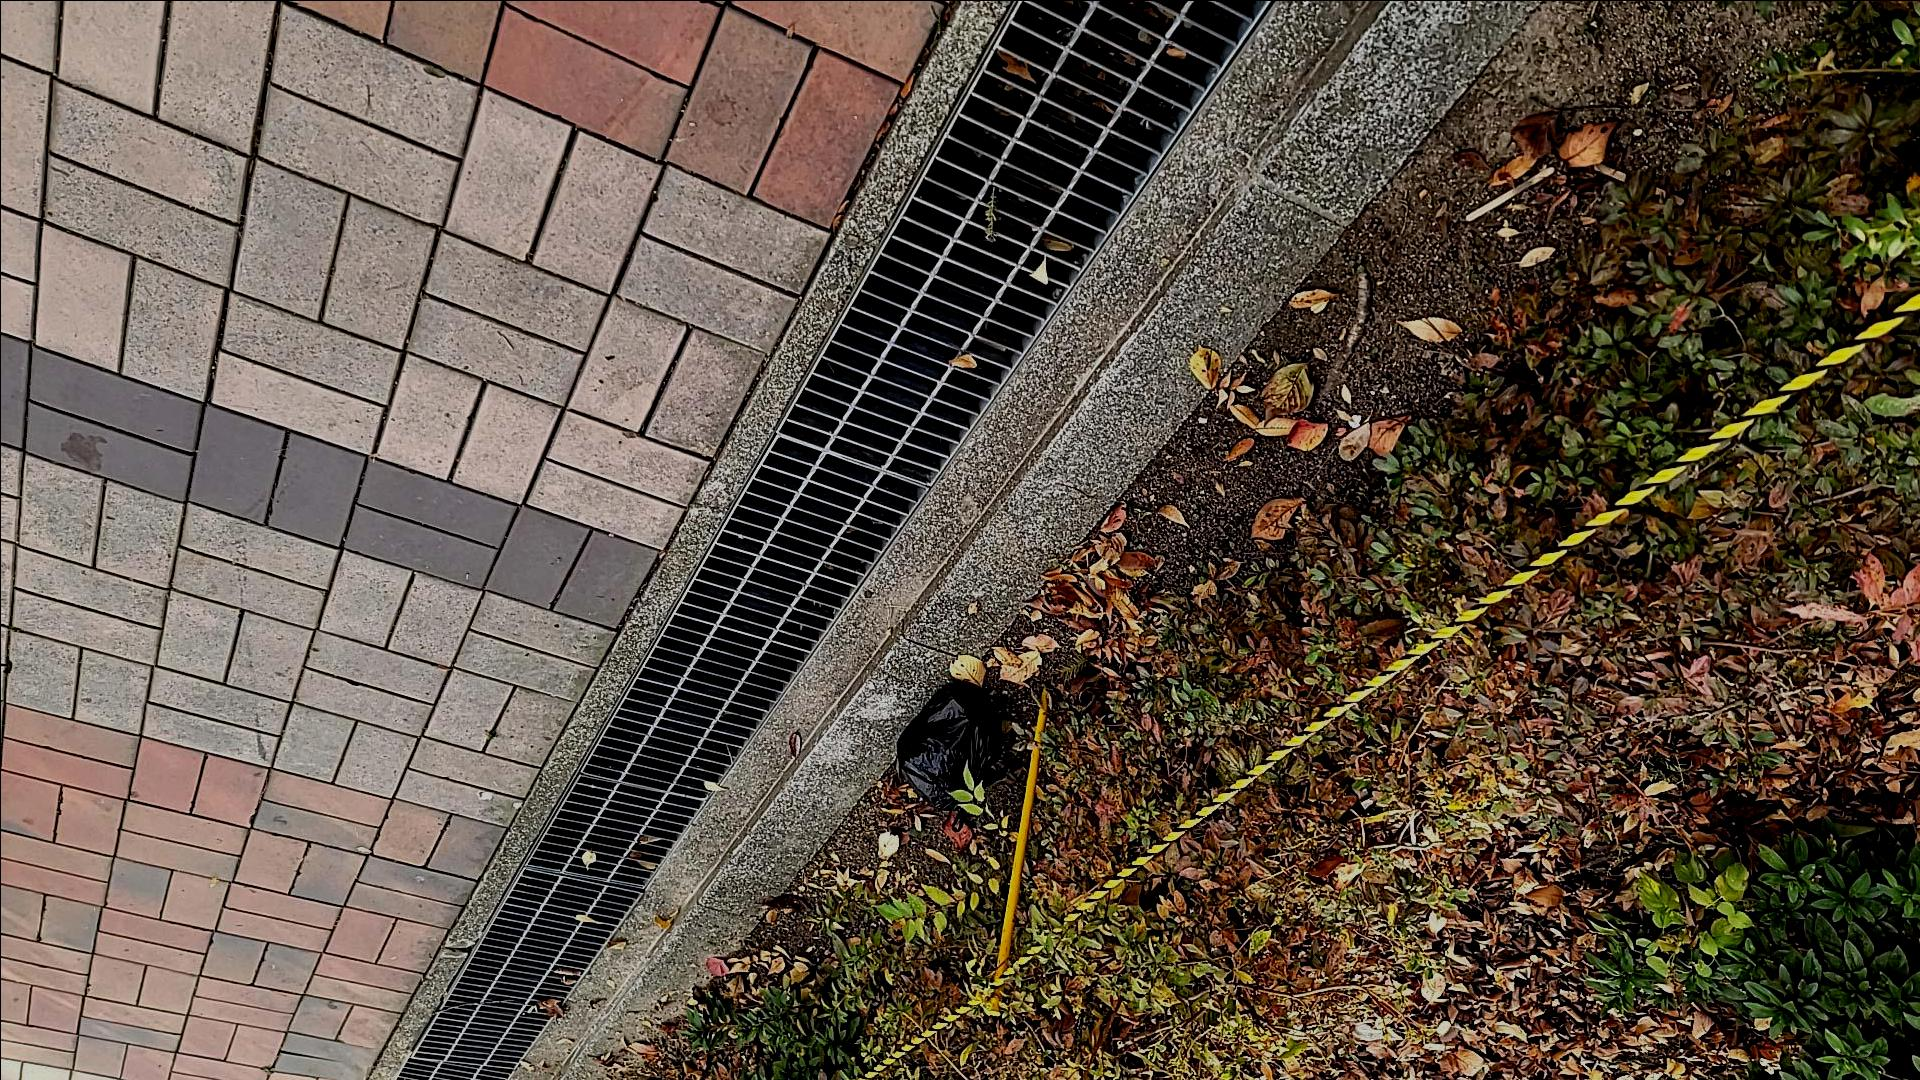black_bag: (890, 679, 1018, 832)
